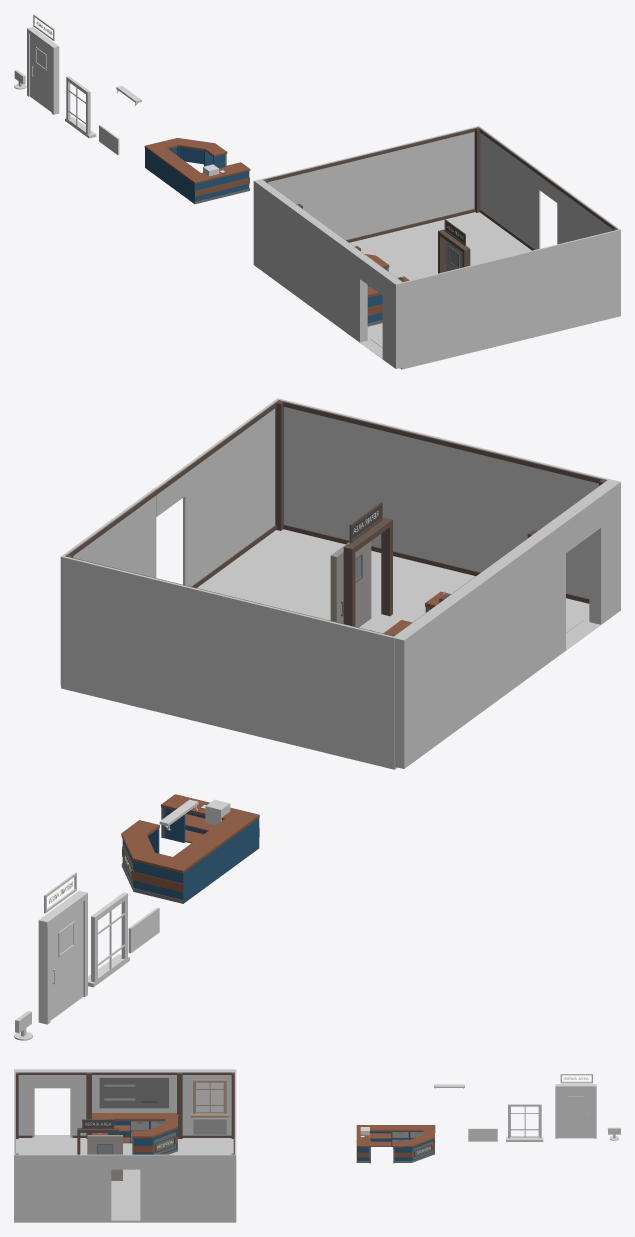
File: door_and_colums.fbx
3 renders of one model, top to bottom at view 1: azimuth 30°, elevation 25°; view 2: azimuth 150°, elevation 25°; view 3: azimuth 270°, elevation 25°, orthographic. The views are drawn at different scales.
Parts seen in each view (by area): view 1: main_room, Куб.062, reg_table.024, repair_door_colums, reg_table.037, reg_table.006, Куб.057, Куб.009; view 2: main_room, repair_door_colums, Куб.062, reg_table.024, repair_door, Куб.009, Куб.055, reg_table.002; view 3: main_room, reg_table.037, Куб.045, Куб.062, Куб.052, repair_door, repair_door_colums, Куб.034, Куб.032, Куб.009, reg_table.
Part boxes in pixels (x1,y1,x2,y2): main_room: (253,126,620,369); Куб.062: (30,34,51,111); reg_table.024: (145,148,195,203); repair_door_colums: (438,219,470,273); reg_table.037: (365,254,409,326); reg_table.006: (195,171,248,201); Куб.057: (51,47,59,114); Куб.009: (152,148,200,177); main_room: (60,398,620,769); repair_door_colums: (343,502,392,626); Куб.062: (50,902,83,1020); reg_table.024: (184,818,259,902); repair_door: (330,541,371,627); Куб.009: (173,818,247,864); Куб.055: (38,920,50,1024); reg_table.002: (134,861,184,903); main_room: (14,1069,236,1222); reg_table.037: (92,1113,178,1154); Куб.045: (99,1077,168,1108); Куб.062: (558,1089,593,1138); Куб.052: (191,1079,228,1117); repair_door: (87,1135,122,1180); repair_door_colums: (77,1119,118,1154); Куб.034: (193,1118,226,1134); Куб.032: (468,1129,497,1141); Куб.009: (369,1125,423,1131); reg_table: (411,1139,434,1160).
Bounding box in the file's own units: 4380 × 1680 × 13067.
